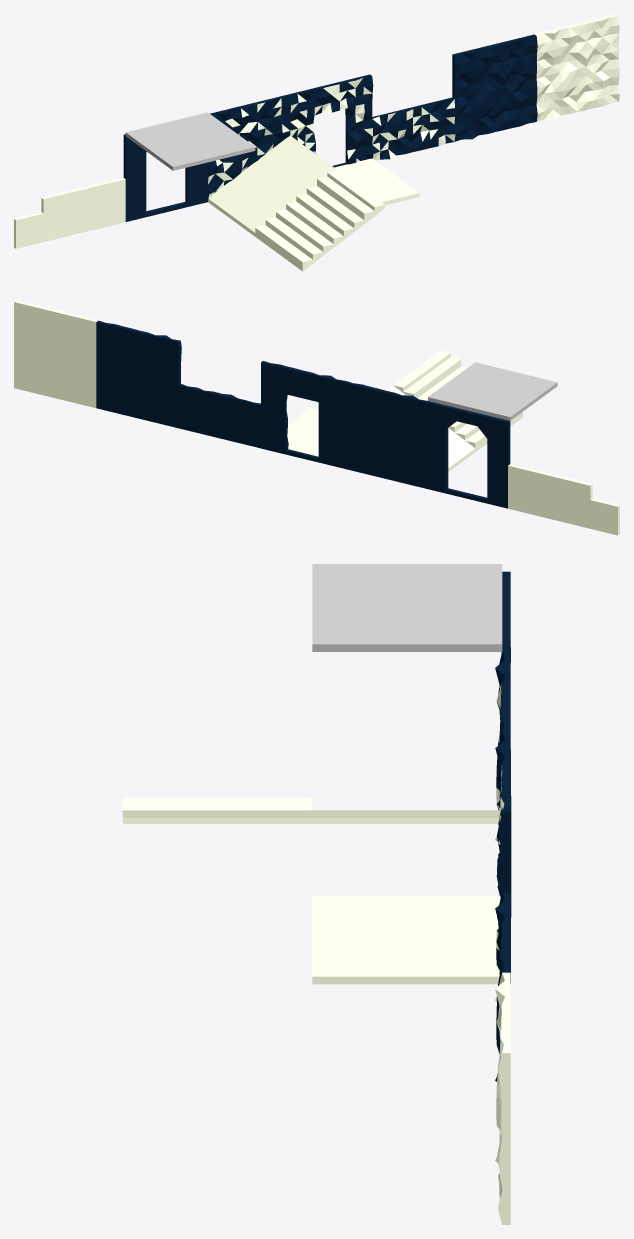
The model's file is Set_Modular_design2.fbx.
The picture shows the model from 3 angles, top to bottom: view 1: azimuth 30°, elevation 25°; view 2: azimuth 150°, elevation 25°; view 3: azimuth 270°, elevation 25°; orthographic projection. The views are drawn at different scales.
Visible parts, largest first — view 1: Wall_design.001, Wall_design.002, Stairs, Slope, Wall_design_door, Ceiling, Wall_design, Half_Wall, Half_wall_design.003, Wall_door, Floor.001, Wall_Segmented; view 2: Wall_design.001, Wall_design, Wall_design.002, Wall_design_door, Wall_door, Ceiling, Half_Wall, Half_wall_design.003, Stairs, Floor.001, Wall_Segmented, Slope; view 3: Ceiling, Floor.001, Stairs, Wall_design.002, Slope, Wall_design_door, Wall_design, Wall_design.001.
Boxes of the visible parts, left/top/right/bottom form: Wall_design.001: left=452, top=34, right=537, bottom=141; Wall_design.002: left=535, top=14, right=619, bottom=121; Stairs: left=255, top=170, right=384, bottom=271; Slope: left=208, top=135, right=336, bottom=236; Wall_design_door: left=288, top=74, right=373, bottom=167; Ceiling: left=125, top=112, right=255, bottom=170; Wall_design: left=208, top=94, right=290, bottom=200; Half_Wall: left=41, top=177, right=125, bottom=241; Half_wall_design.003: left=372, top=97, right=455, bottom=160; Wall_door: left=123, top=134, right=207, bottom=221; Floor.001: left=334, top=158, right=419, bottom=204; Wall_Segmented: left=14, top=212, right=43, bottom=248; Wall_design.001: left=96, top=320, right=181, bottom=428; Wall_design: left=343, top=381, right=427, bottom=488; Wall_design.002: left=14, top=300, right=97, bottom=407; Wall_design_door: left=261, top=361, right=344, bottom=468; Wall_door: left=425, top=401, right=510, bottom=508; Ceiling: left=428, top=362, right=557, bottom=420; Half_Wall: left=508, top=464, right=592, bottom=528; Half_wall_design.003: left=178, top=384, right=260, bottom=448; Stairs: left=393, top=350, right=522, bottom=451; Floor.001: left=287, top=408, right=318, bottom=456; Wall_Segmented: left=590, top=498, right=619, bottom=535; Slope: left=386, top=385, right=475, bottom=471; Ceiling: left=312, top=564, right=502, bottom=651; Floor.001: left=312, top=896, right=500, bottom=984; Stairs: left=122, top=798, right=312, bottom=823; Wall_design.002: left=495, top=972, right=510, bottom=1224; Slope: left=312, top=810, right=499, bottom=823; Wall_design_door: left=495, top=732, right=511, bottom=983; Wall_design: left=495, top=652, right=510, bottom=895; Wall_design.001: left=495, top=892, right=510, bottom=1081.
Bounding box in the file's own units: 4400 × 627 × 1229.
